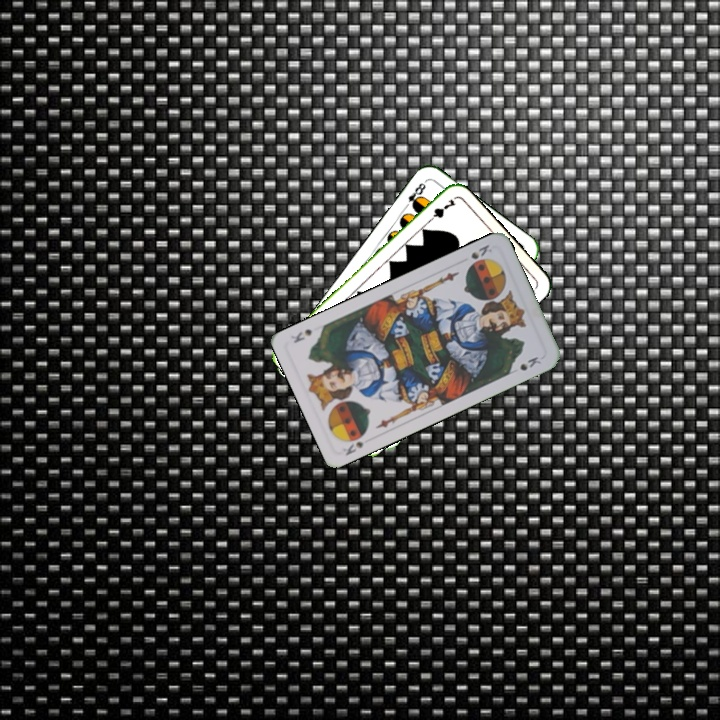E8: (400, 177, 429, 212)
G7: (423, 194, 459, 226)
SK: (339, 428, 370, 458), (467, 240, 494, 262)
